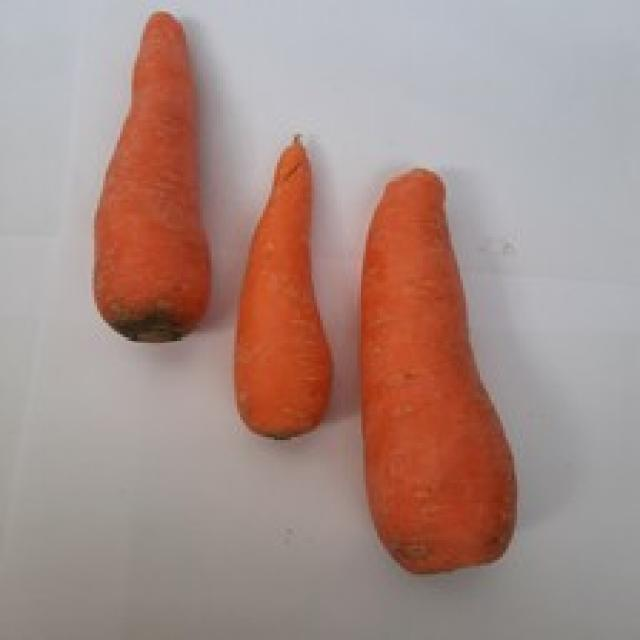carrot: (358, 168, 519, 573), (92, 12, 208, 344), (234, 136, 338, 439)
